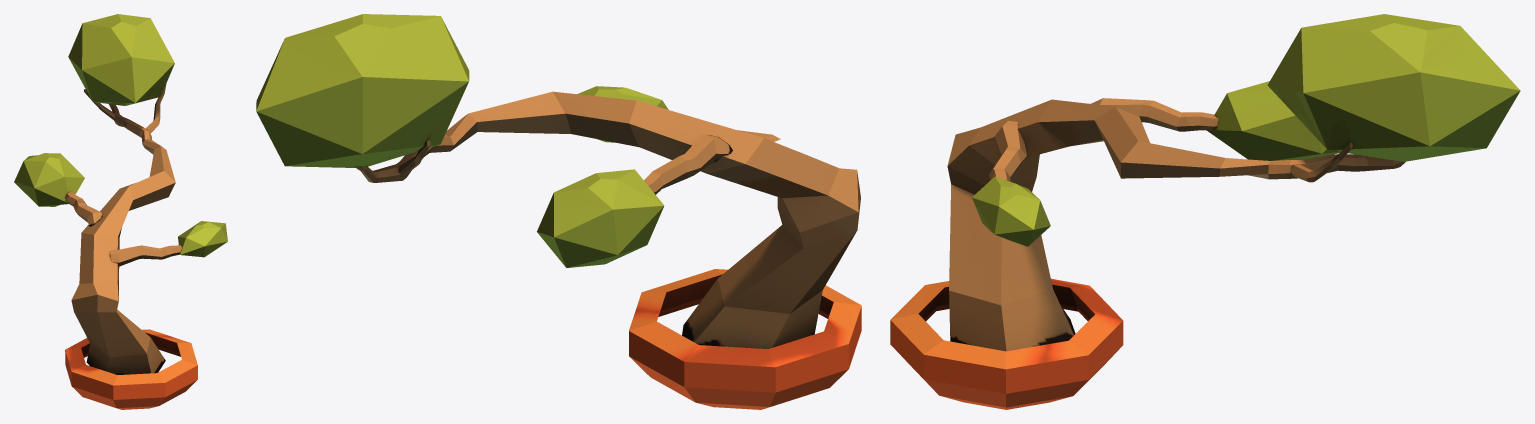
The picture shows the model from 3 angles, left to right: view 1: azimuth 30°, elevation 25°; view 2: azimuth 150°, elevation 25°; view 3: azimuth 270°, elevation 25°; orthographic projection. The views are drawn at different scales.
Parts seen in each view (by area): view 1: bonsai; view 2: bonsai; view 3: bonsai.
Boxes of the visible parts, left/top/right/bottom form: bonsai: left=14, top=14, right=227, bottom=409; bonsai: left=256, top=14, right=861, bottom=409; bonsai: left=890, top=14, right=1520, bottom=409.
Bounding box in the file's own units: 1.32 × 1.54 × 1.97.
1 material, 1 textured.
